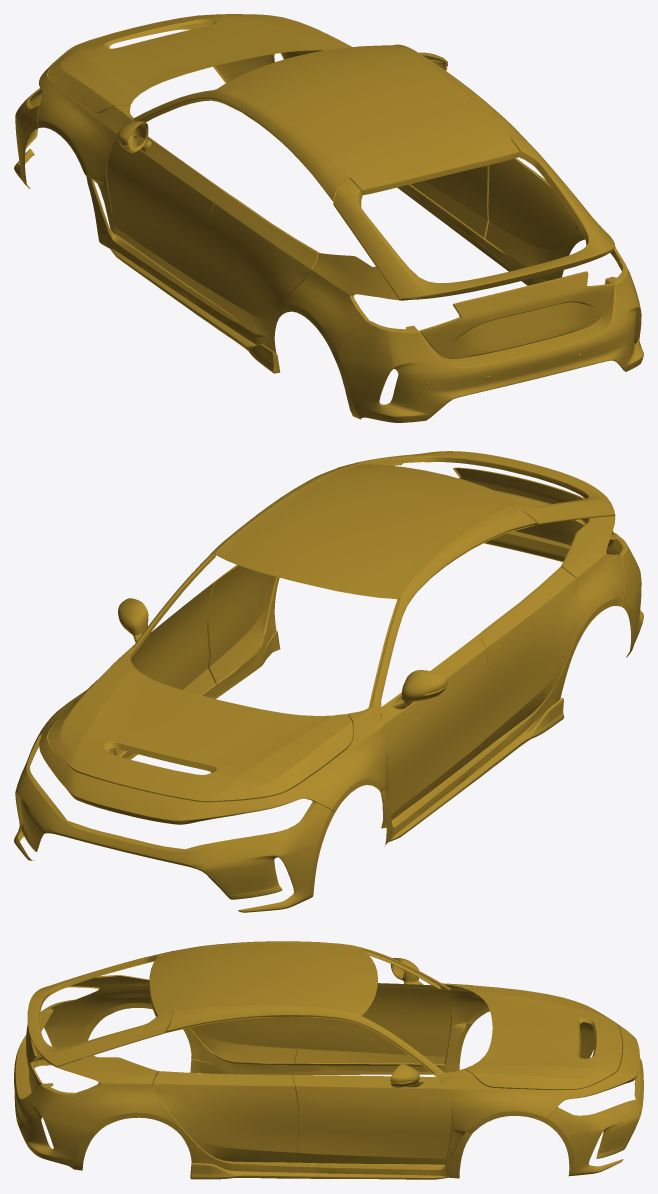
File: civic_VFX_Mesh.FBX
The picture shows the model from 3 angles, top to bottom: view 1: azimuth 30°, elevation 25°; view 2: azimuth 150°, elevation 25°; view 3: azimuth 270°, elevation 25°; orthographic projection. The views are drawn at different scales.
Visible parts, largest first — view 1: _decal; view 2: _decal; view 3: _decal.
Boxes of the visible parts, x1,y1,x2,y2 form: _decal: [14, 14, 643, 422]; _decal: [14, 451, 643, 912]; _decal: [14, 941, 643, 1179].
Bounding box in the file's own units: 242 × 147 × 536.
